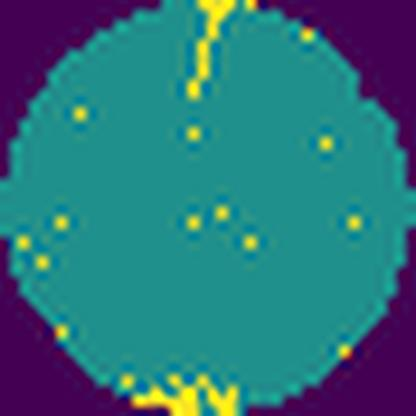Edge-Loc: (184, 0, 235, 107), (126, 369, 242, 415)
